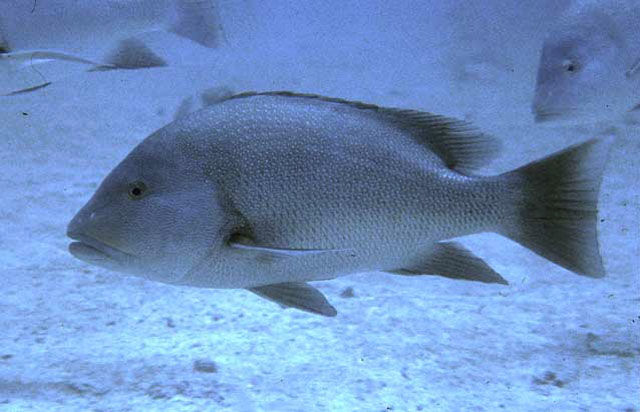fish: (67, 91, 609, 318)
